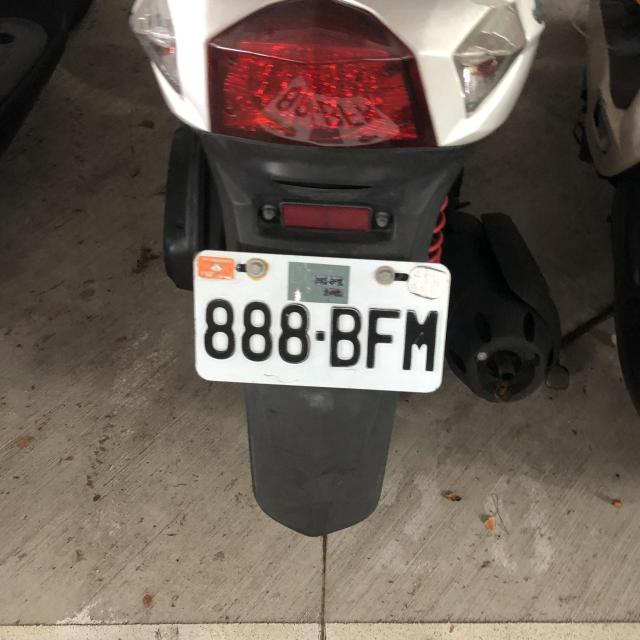W: (184, 248, 456, 395)
